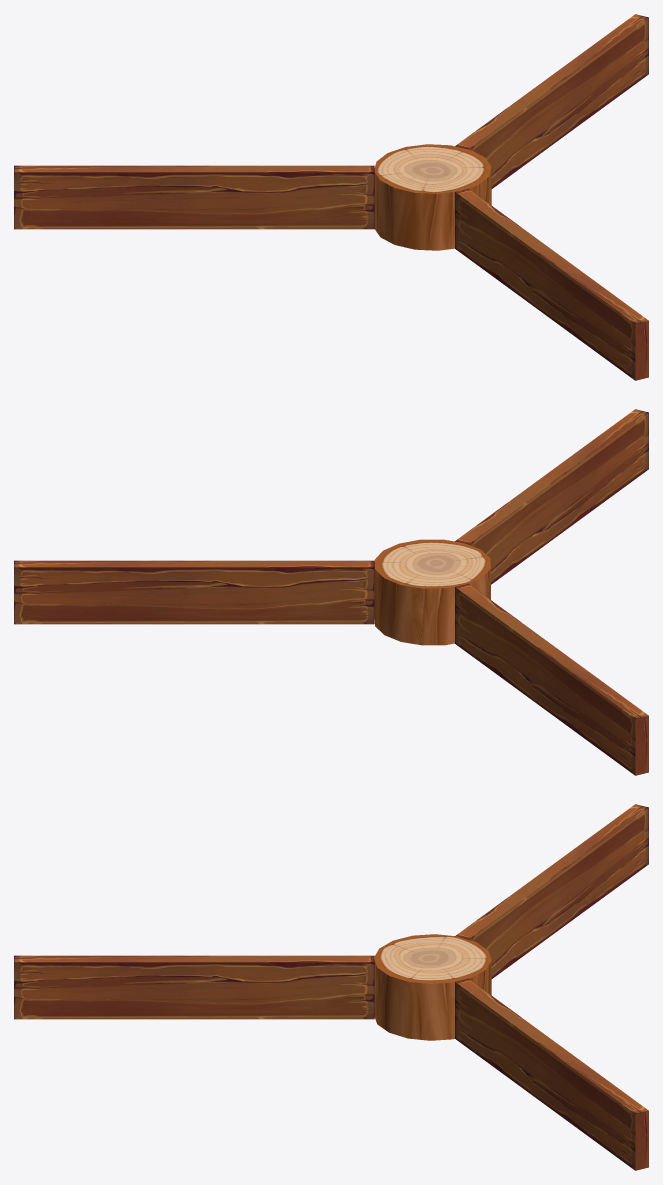
The model's file is three_blade_wood_03.fbx.
The picture shows the model from 3 angles, top to bottom: view 1: azimuth 30°, elevation 25°; view 2: azimuth 150°, elevation 25°; view 3: azimuth 270°, elevation 25°; orthographic projection.
Parts seen in each view (by area): view 1: three_blade_wood_03; view 2: three_blade_wood_03; view 3: three_blade_wood_03.
Boxes of the visible parts, left/top/right/bottom form: three_blade_wood_03: left=14, top=14, right=648, bottom=380; three_blade_wood_03: left=14, top=409, right=648, bottom=775; three_blade_wood_03: left=14, top=804, right=648, bottom=1170.
Size of the model in its own units: 468 by 40 by 405.
